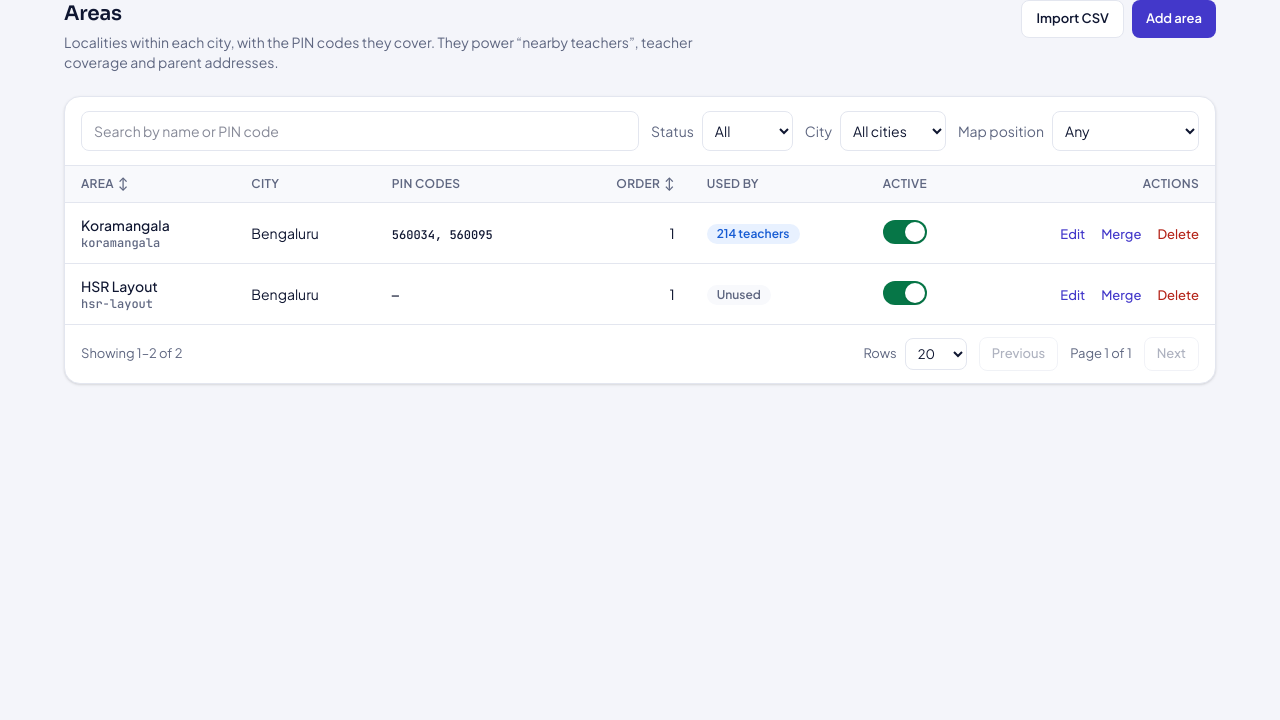
it: areas list page › merges an area from its row and reports the result
Click the button with aria-label "Merge Koramangala" at (1121, 234), box x1=1101 y1=225 x2=1141 y2=243
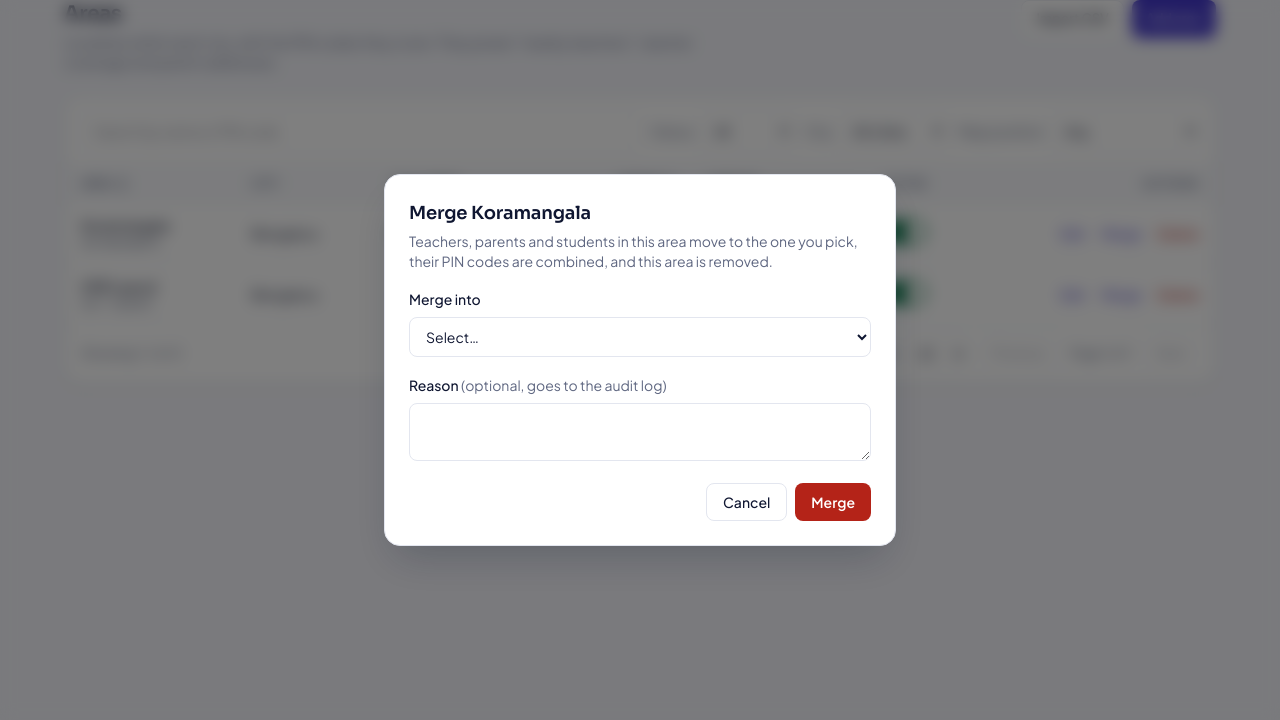
Select "HSR Layout" in the dropdown labelled "Merge into" at (640, 337), box x1=409 y1=317 x2=871 y2=357
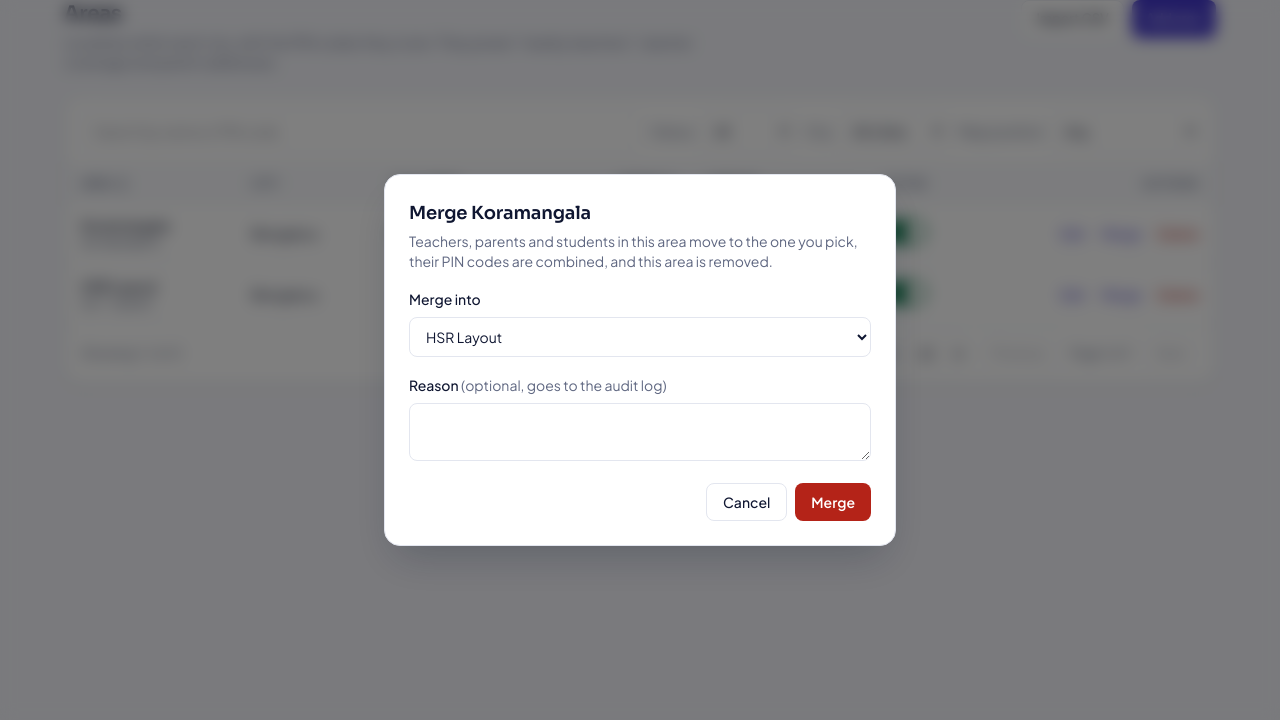
Click the button "Merge" at (833, 502), box x1=795 y1=483 x2=871 y2=521
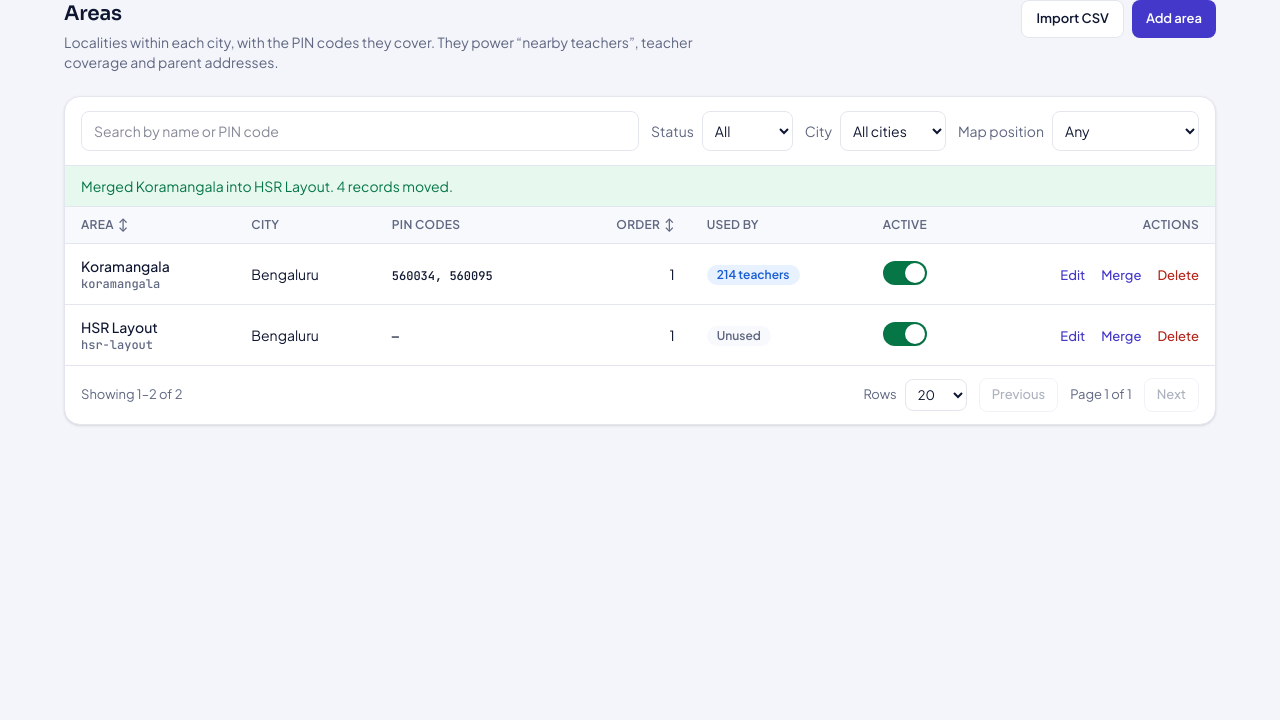
Result: the dialog is gone
Result: the message reads "Merged Koramangala into HSR Layout. 4 records moved." at x1=81 y1=177 x2=453 y2=195
